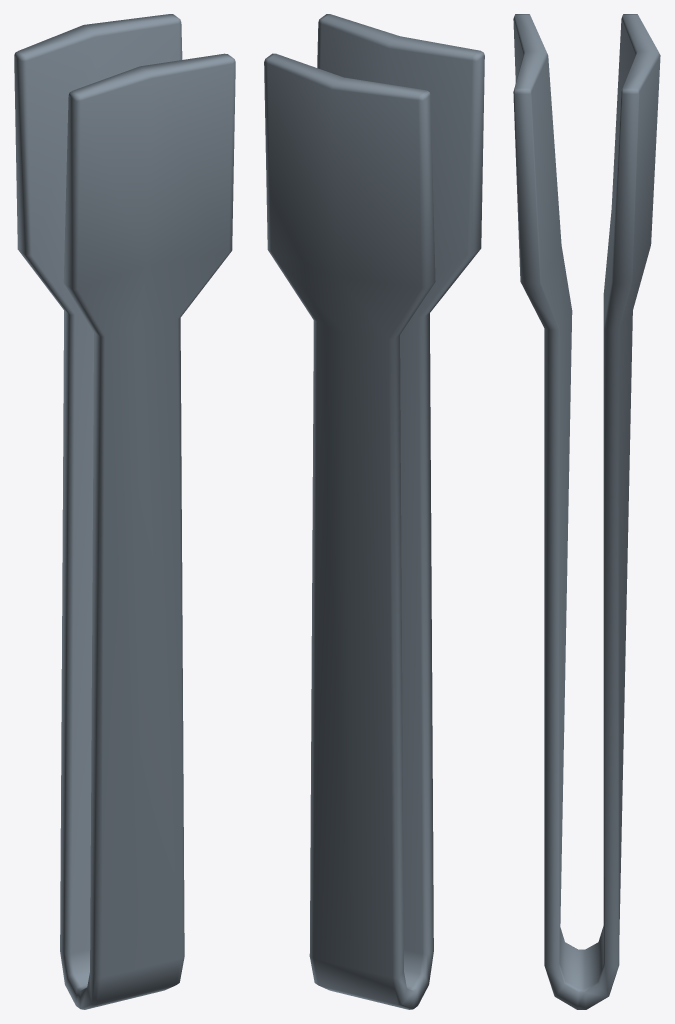
Rendered from Tongs-2.fbx.
The picture shows the model from 3 angles, left to right: view 1: azimuth 30°, elevation 25°; view 2: azimuth 150°, elevation 25°; view 3: azimuth 270°, elevation 25°; orthographic projection.
Parts seen in each view (by area): view 1: Tongs-2; view 2: Tongs-2; view 3: Tongs-2.
Part boxes in pixels (box(x1,y1,x2,y2)): Tongs-2: box(14, 14, 235, 1009); Tongs-2: box(264, 14, 484, 1009); Tongs-2: box(513, 14, 660, 1009).
Size of the model in its own units: 0.053 by 0.3 by 0.0426.
